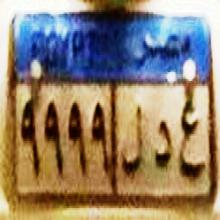9: (89, 96, 111, 182), (44, 94, 64, 180), (67, 98, 86, 184), (20, 100, 40, 180)
ain: (177, 99, 205, 193)
daal: (152, 113, 172, 170)
laam: (121, 94, 143, 182)
